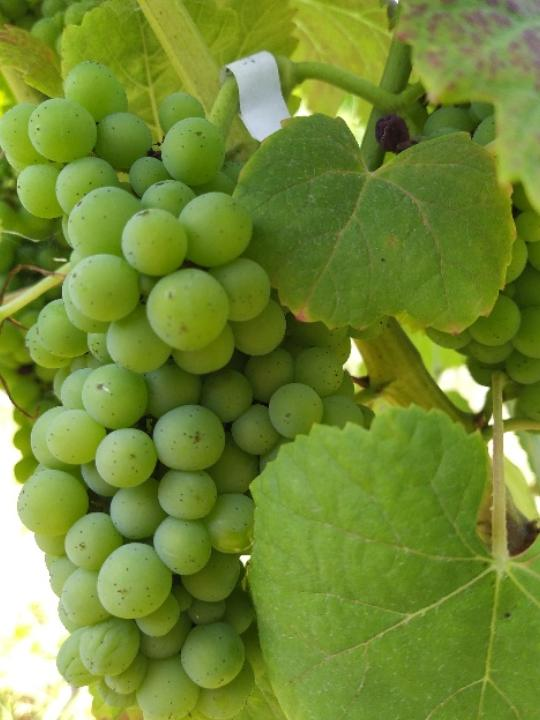grape: (0, 57, 387, 720)
